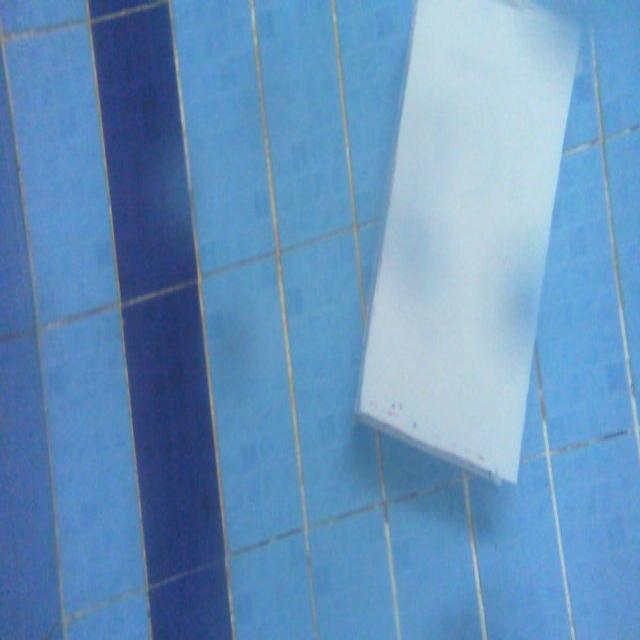Cuboid: (352, 0, 582, 487)
